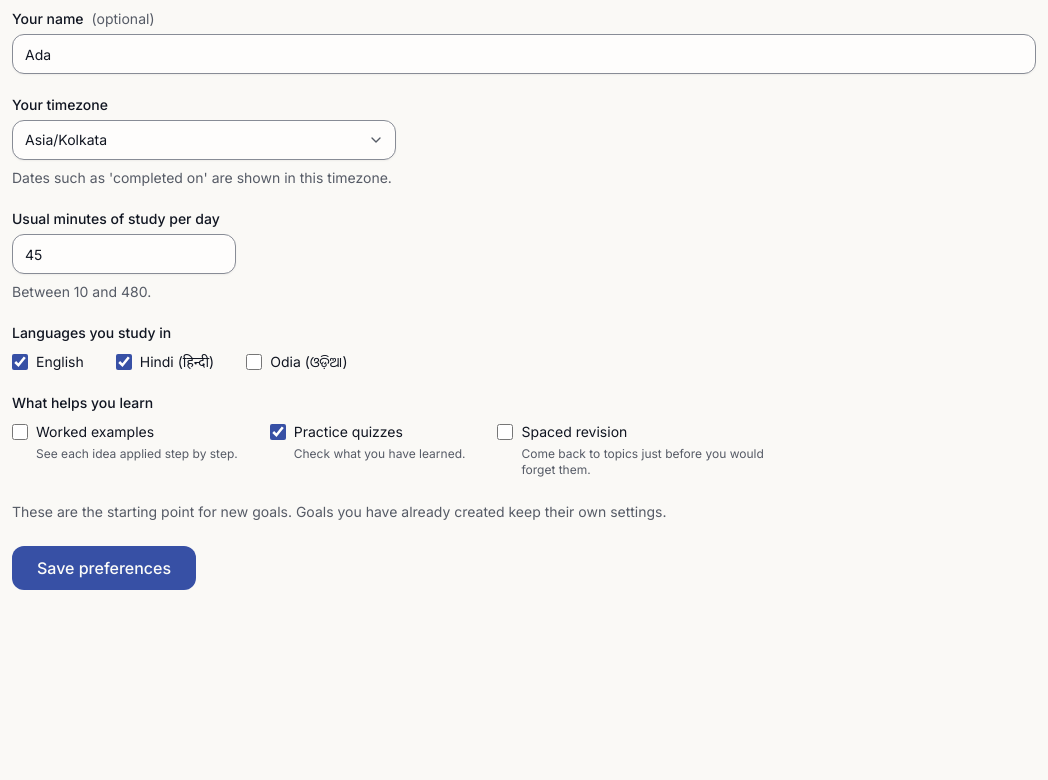
Test: SettingsForm › explains a failure next to the field and keeps the answers
This screenshot has width=1048, height=780.
Step 1. Click the button "Save preferences" → (104, 568), box [12,546,196,590]
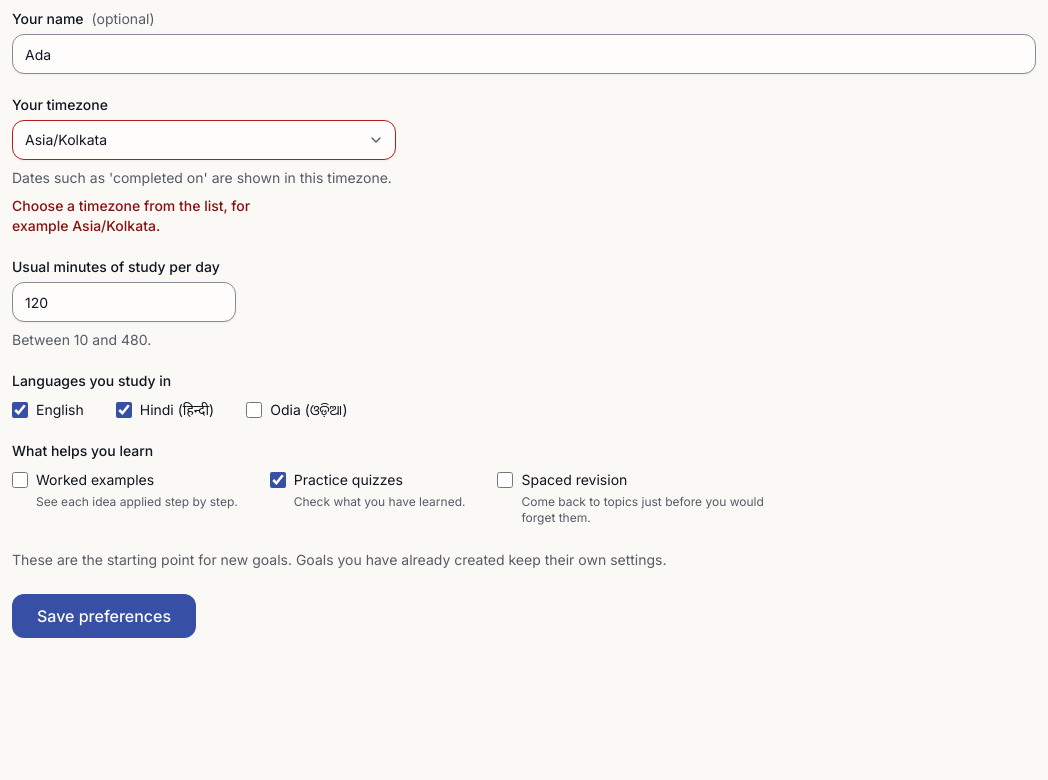
Now the text "Choose a timezone from the list, for example Asia/Kolkata." is shown, box [12,197,250,234]
Now the number field labelled "Usual minutes of study per day" holds "120", box [12,282,236,322]
